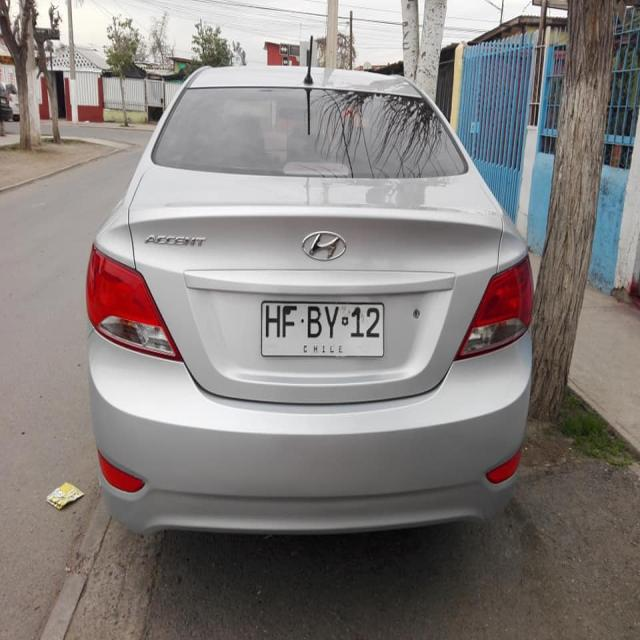patente: (259, 300, 385, 358)
